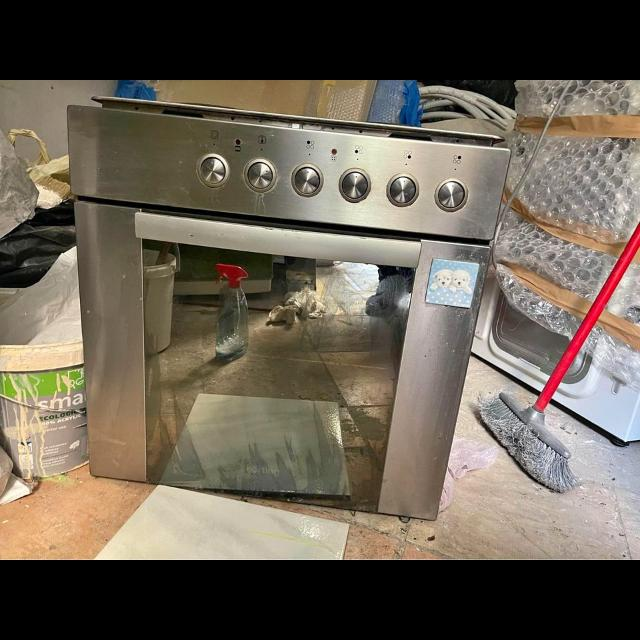Oven: (66, 104, 496, 516)
